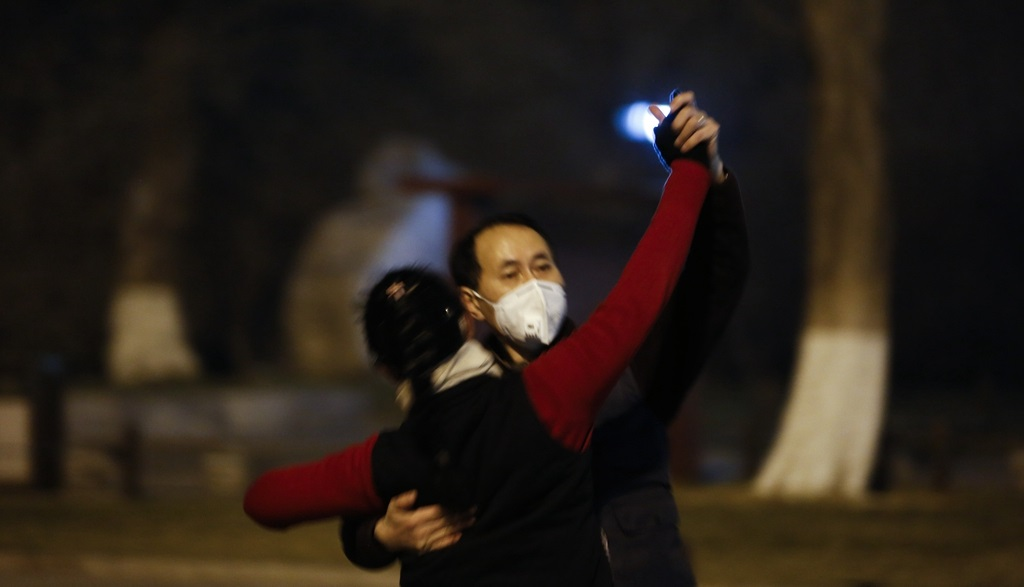face_mask: (483, 241, 571, 345)
